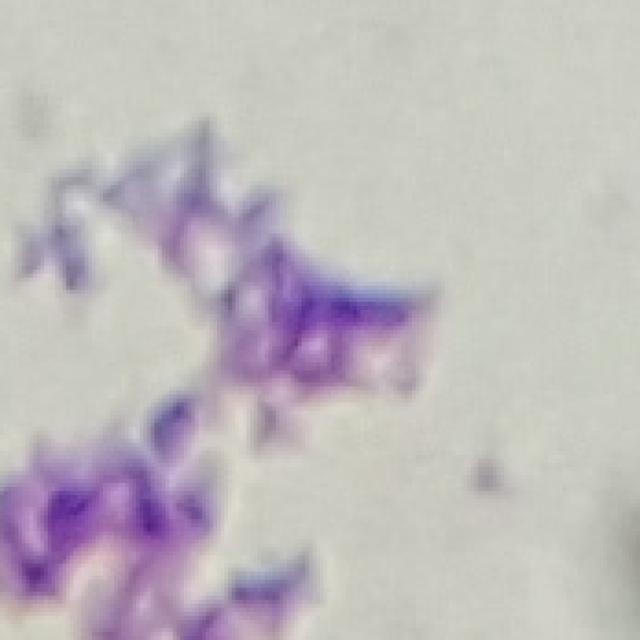non-sperm: (54, 120, 439, 403)
